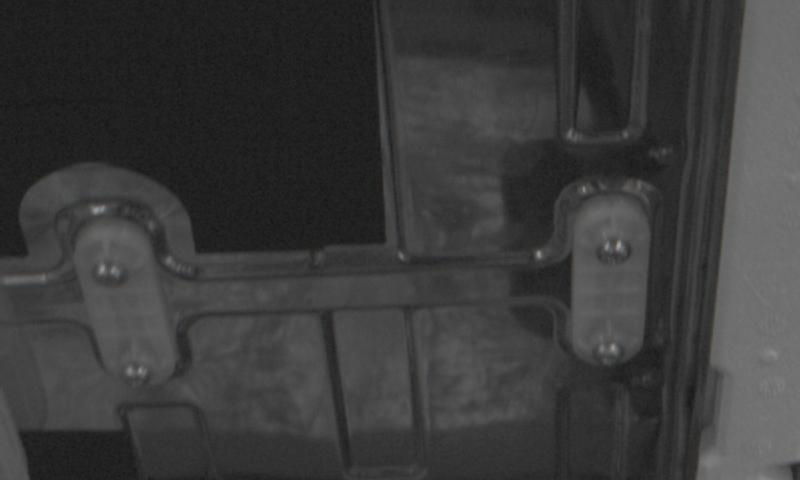vida-ok: (89, 248, 135, 292), (593, 228, 640, 271), (585, 325, 631, 364), (116, 354, 161, 393)
